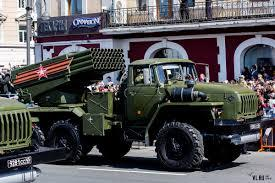MIL_SAM_TEL: (9, 46, 262, 172)
